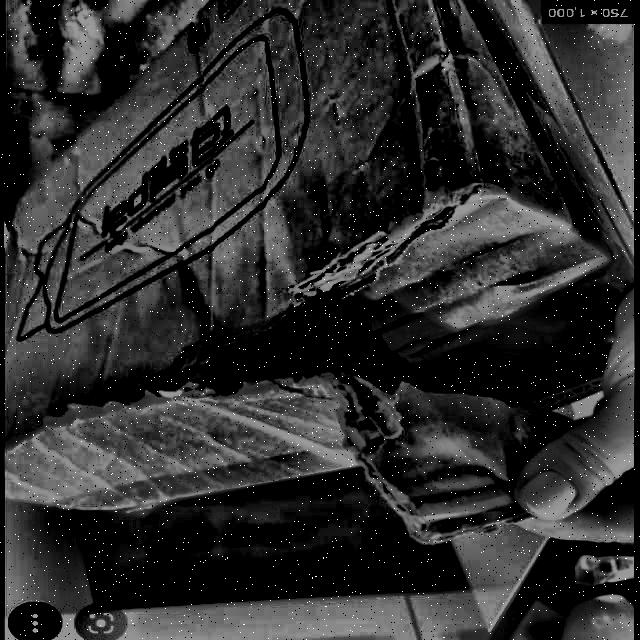box: (1, 1, 635, 556)
hole: (60, 292, 418, 433)
